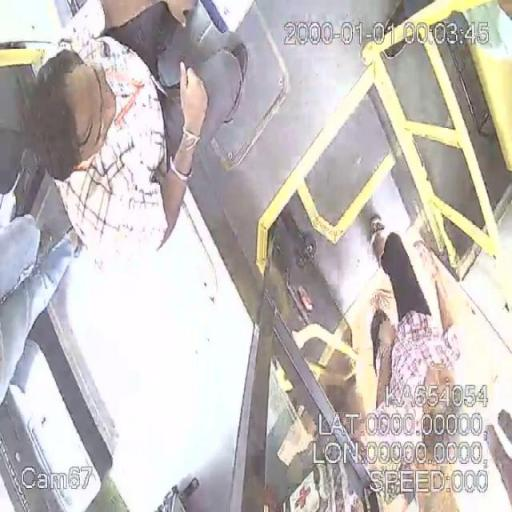persona: (21, 2, 217, 261), (365, 214, 462, 512)
